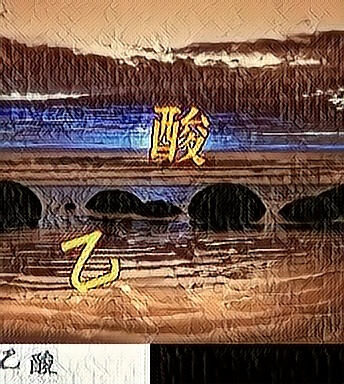CBE1: (148, 105, 208, 169)
D2D2: (59, 227, 119, 291)
